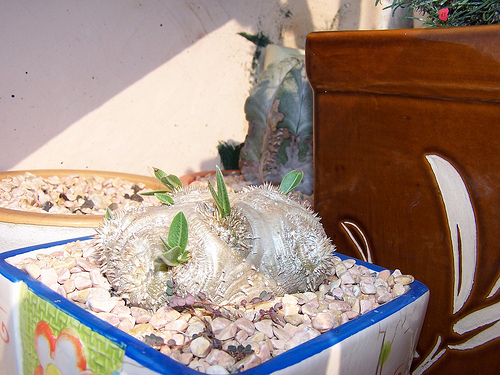Pachypodium brevicaule: (88, 147, 356, 317)
